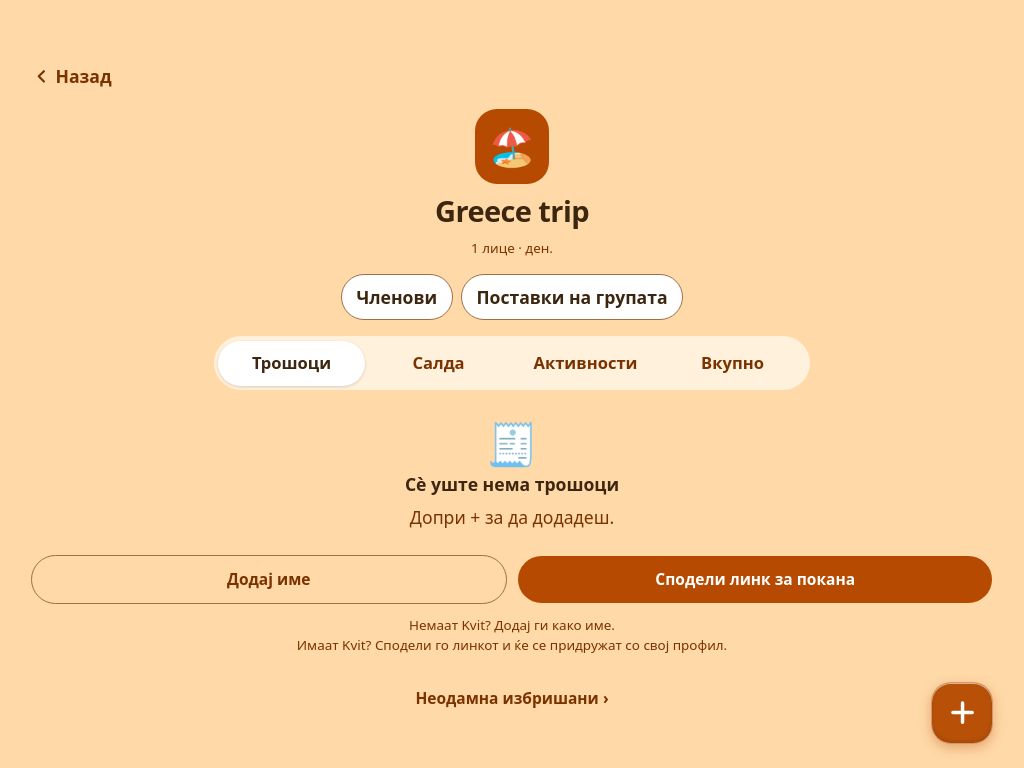
Test: GroupScreen › adding a name › opens a sheet with the name field, its hint and the Add button when Add a name is pressed (mk)
The width and height of the screenshot is (1024, 768).
Click the button "Додај име". click: [269, 580]
box: [31,555,507,604]
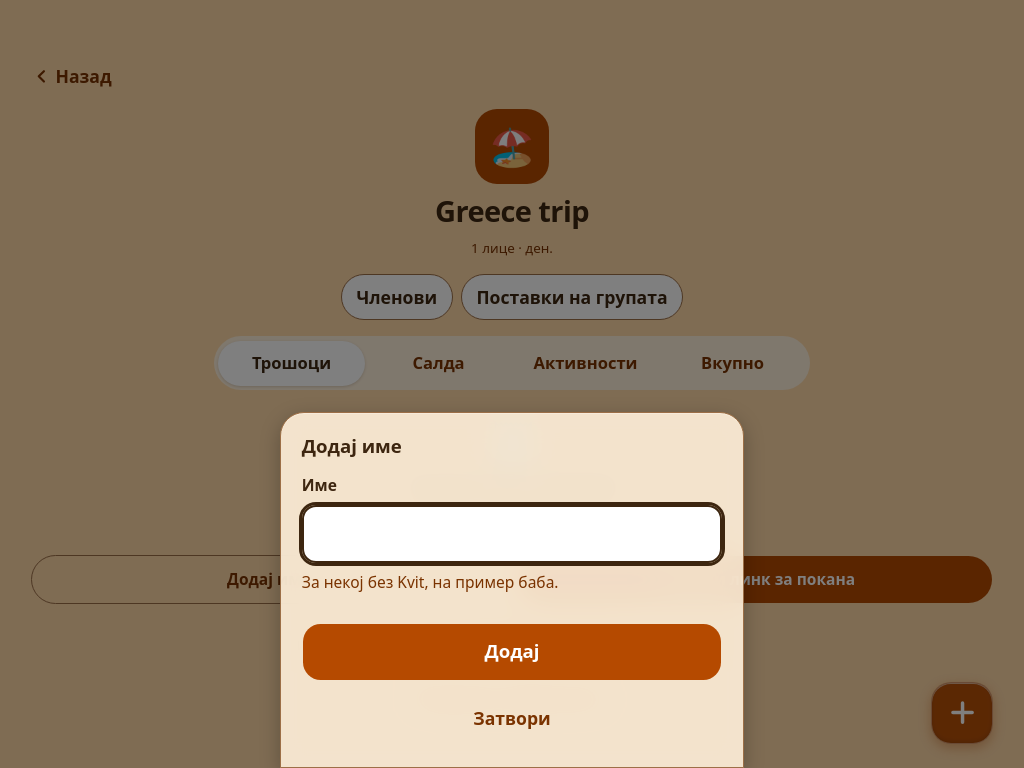
Check: the dialog "Додај име" is shown, box [280,412,744,767]
Check: the field labelled "Име" is shown, box [302,505,722,563]
Check: the text "За некој без Kvit, на пример баба." is shown, box [302,572,558,594]
